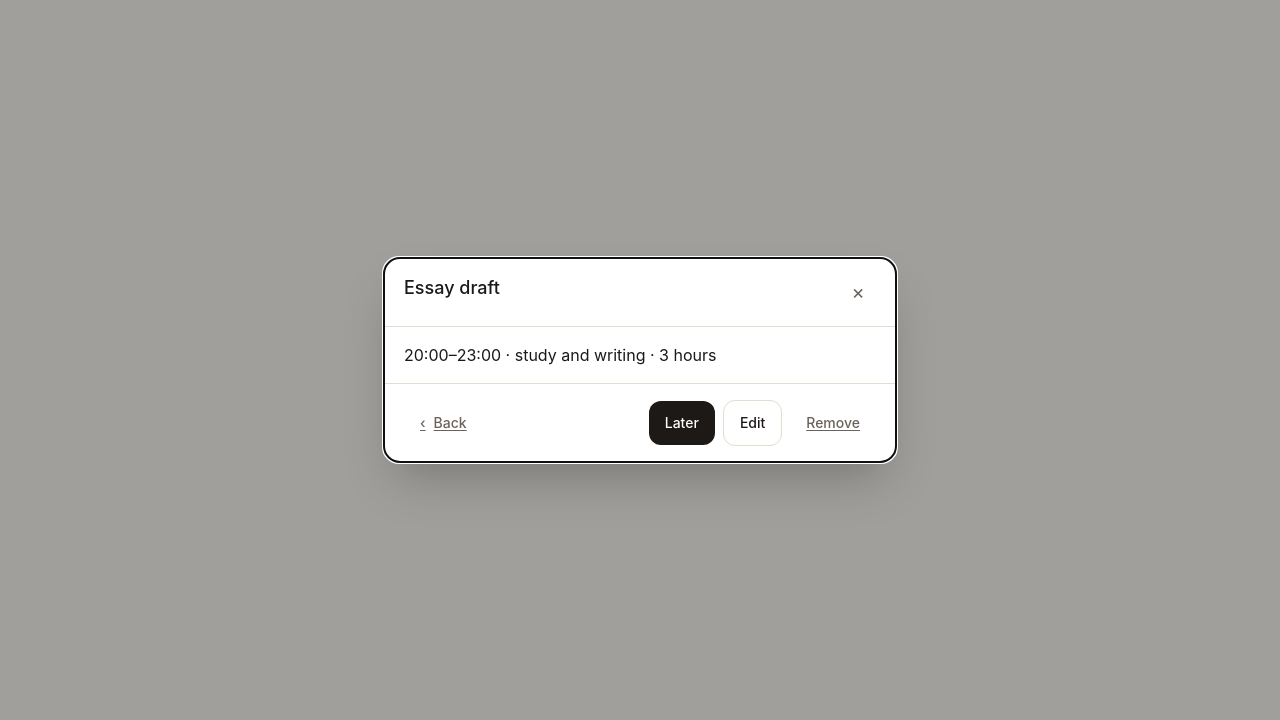
Test case: changing the block rather than answering about it › asks before it removes anything
What coordinates should you click on to do the following:
click the button "Remove"
I would click on:
 (833, 423)
Its box is [790,401,876,445].
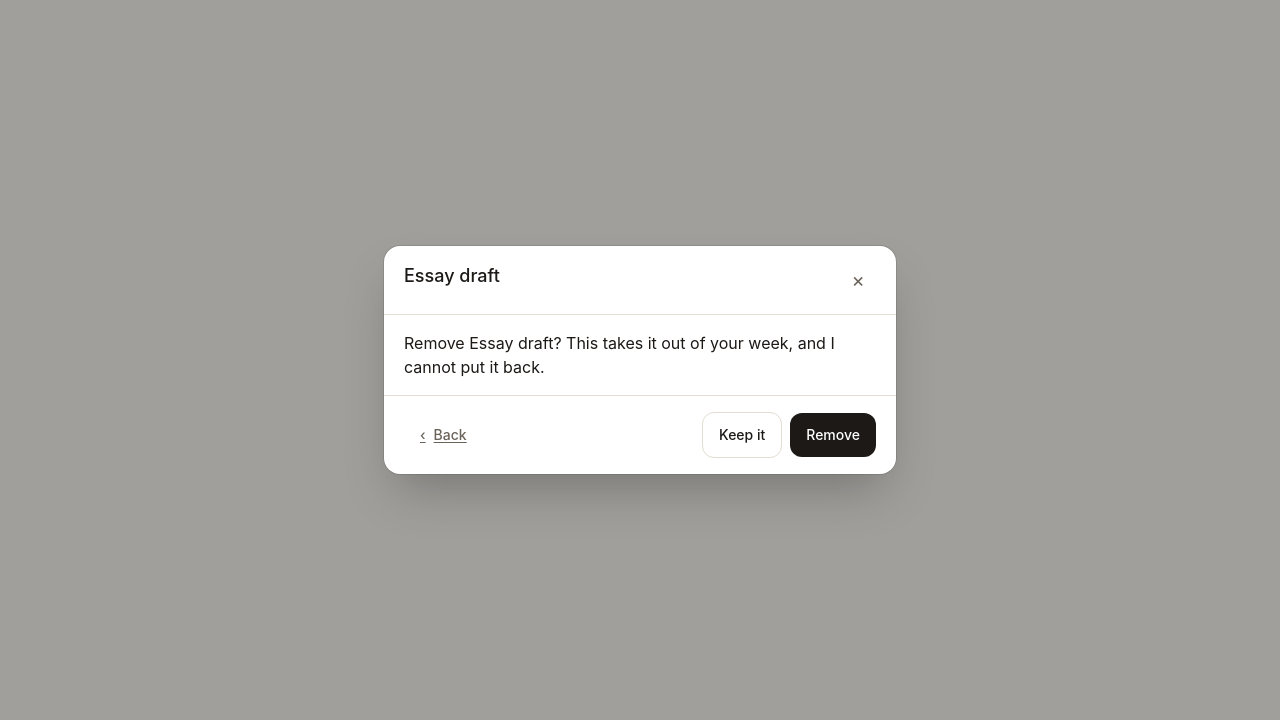
Expected: the text with test id "confirm-remove" shows "takes it out of your week", [404,333,835,377]
Expected: the text with test id "confirm-remove" shows "Essay draft", [469,333,553,353]
